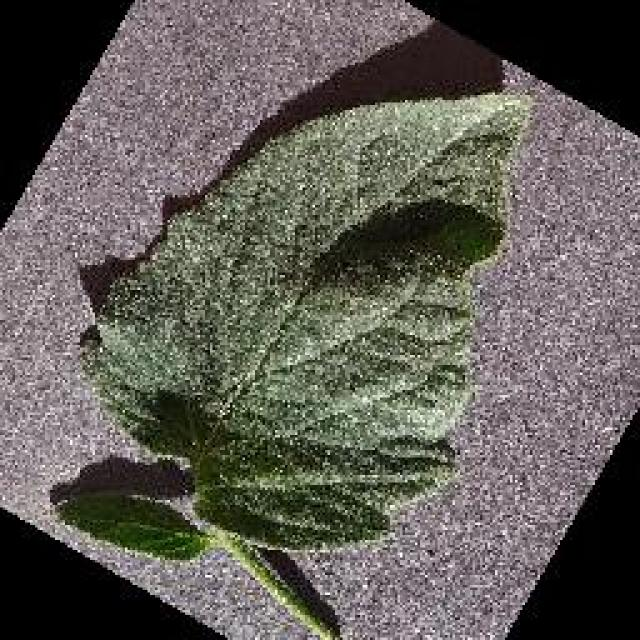Tomato___healthy: (52, 94, 532, 638)
